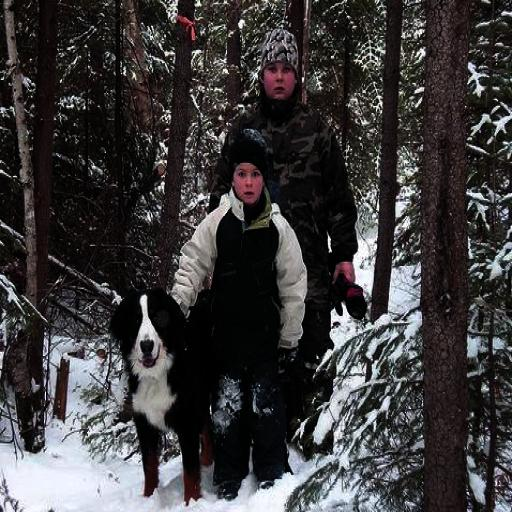dog_face: (104, 283, 182, 368)
